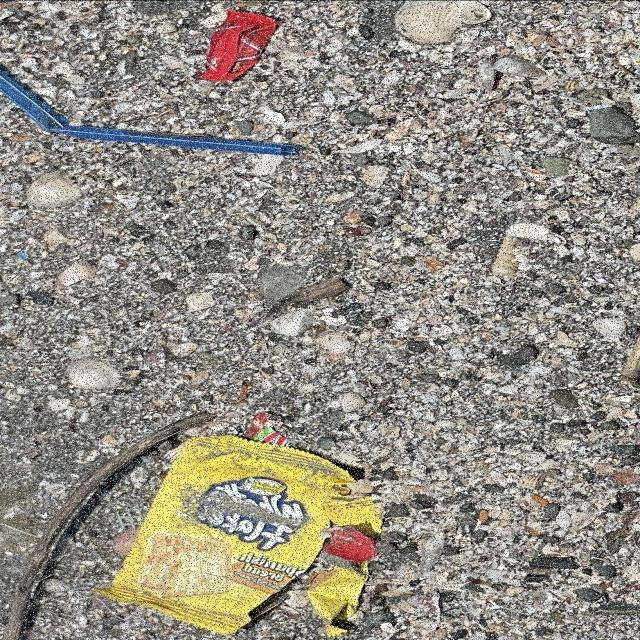plastic_waste: (92, 412, 387, 638), (1, 73, 305, 159), (198, 9, 279, 83)
